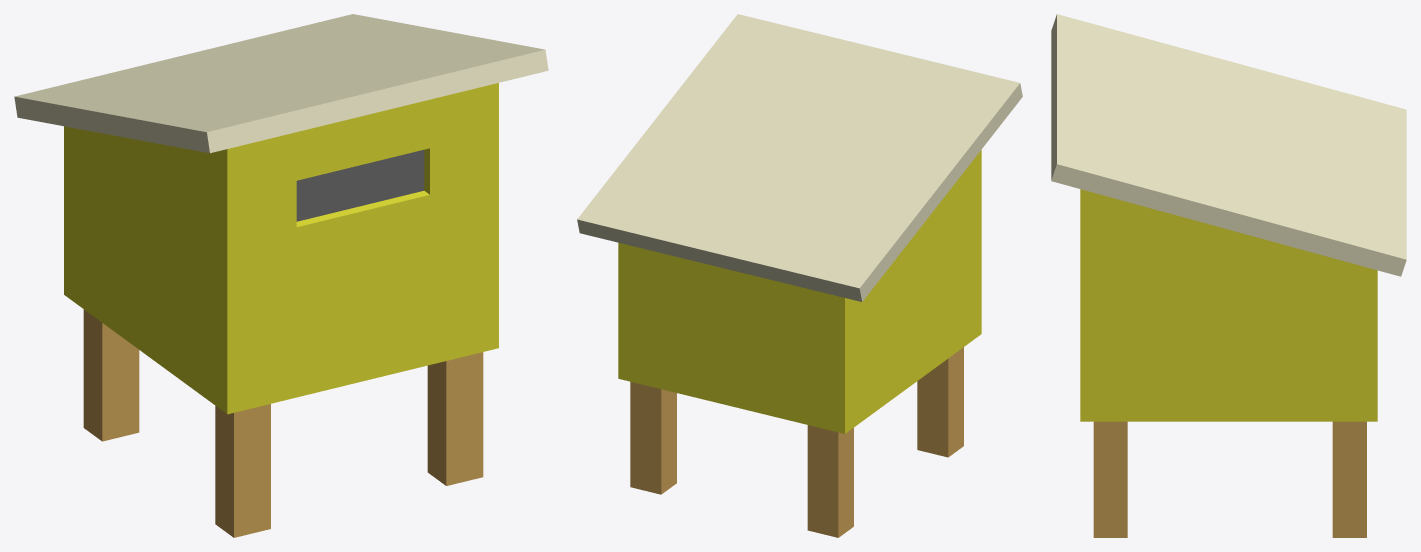
Rendered from hive_2.fbx.
The picture shows the model from 3 angles, left to right: view 1: azimuth 30°, elevation 25°; view 2: azimuth 150°, elevation 25°; view 3: azimuth 270°, elevation 25°; orthographic projection. The views are drawn at different scales.
Parts seen in each view (by area): view 1: Cube_12; view 2: Cube_12; view 3: Cube_12.
Part boxes in pixels (x1,y1,x2,y2): Cube_12: (14, 14, 548, 537); Cube_12: (577, 14, 1022, 537); Cube_12: (1051, 14, 1406, 537).
Bounding box in the file's own units: 82.26 × 100 × 82.34.
